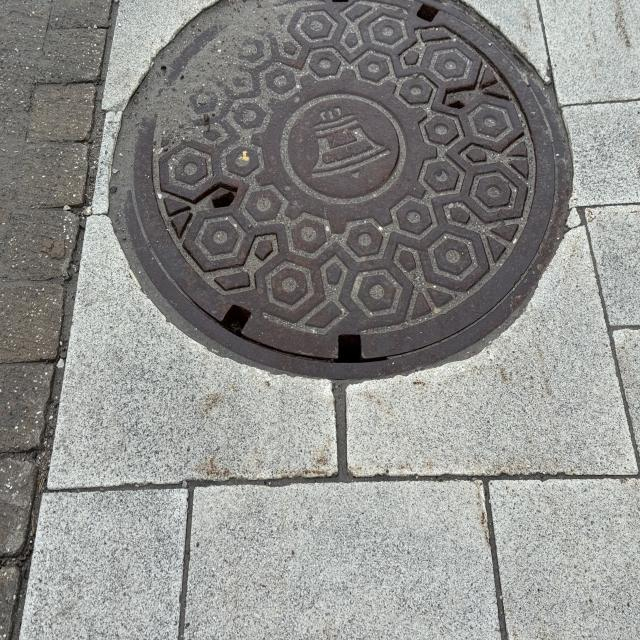Manhole: (113, 1, 568, 386)
